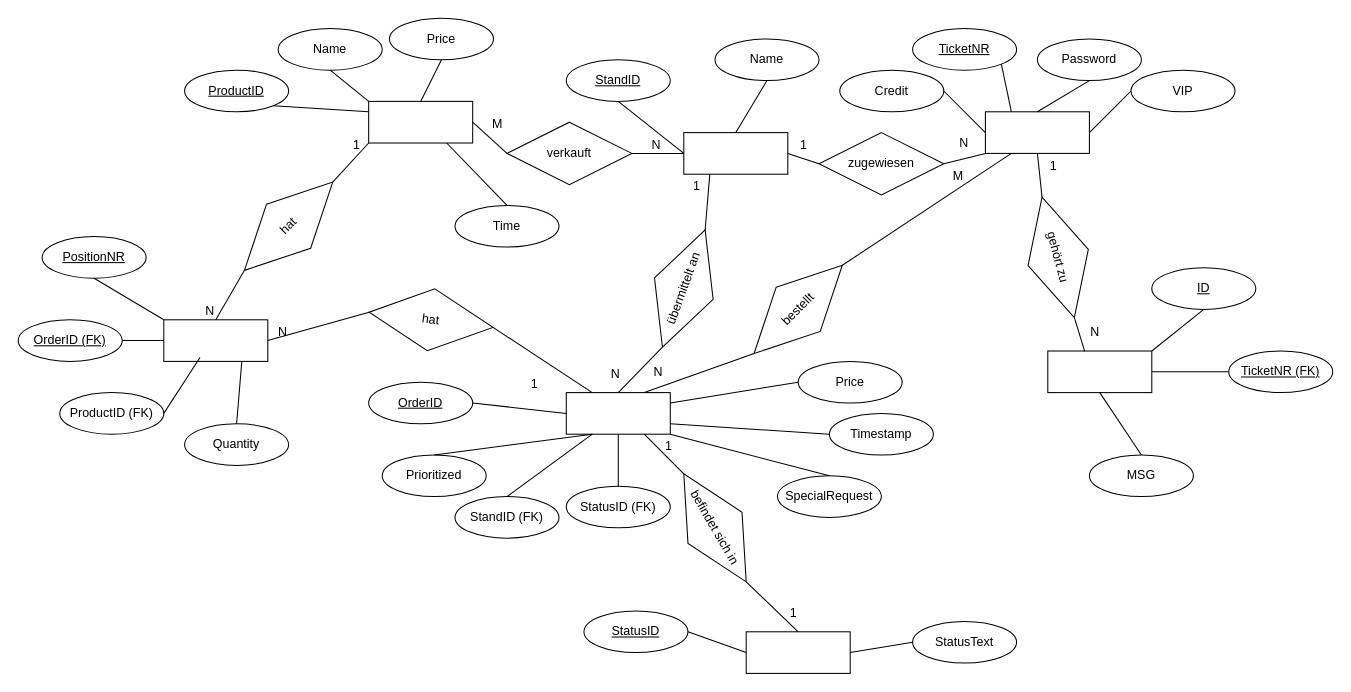
This 1351x692 diagram has some shape labels left out. The shapes that lost their labels are listed below. From the top down, each one's centre as x and y in pixels, then its label:
the point at 420,121: Product
the point at 1036,132: Ticket
the point at 735,153: Stand
the point at 215,340: OrderPosition
the point at 1099,371: Message
the point at 617,413: Order
the point at 797,652: Status
